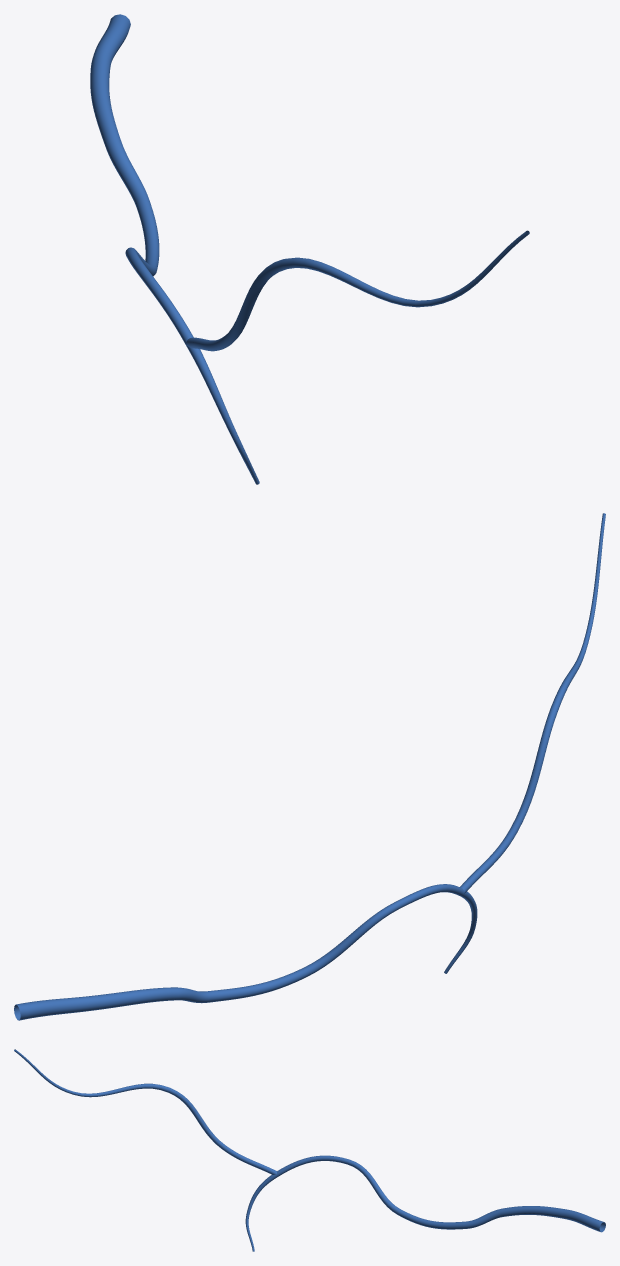
The picture shows the model from 3 angles, top to bottom: view 1: azimuth 30°, elevation 25°; view 2: azimuth 150°, elevation 25°; view 3: azimuth 270°, elevation 25°; orthographic projection. The views are drawn at different scales.
Parts seen in each view (by area): view 1: 右侧颞浅静脉; view 2: 右侧颞浅静脉; view 3: 右侧颞浅静脉.
Part boxes in pixels (bbox=[...]): 右侧颞浅静脉: bbox=[90, 14, 529, 484]; 右侧颞浅静脉: bbox=[14, 513, 605, 1020]; 右侧颞浅静脉: bbox=[14, 1049, 605, 1251].
Bounding box in the file's own units: 0.0452 × 0.0632 × 0.1613.
